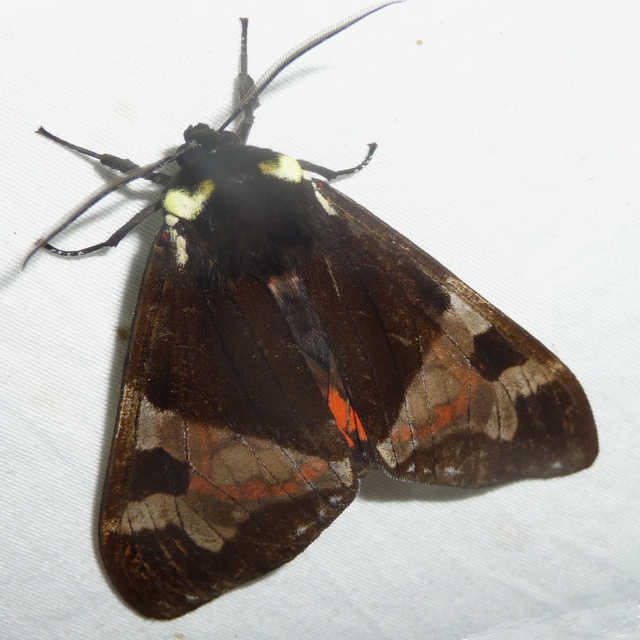Moths and butterflies: (18, 0, 600, 622)
